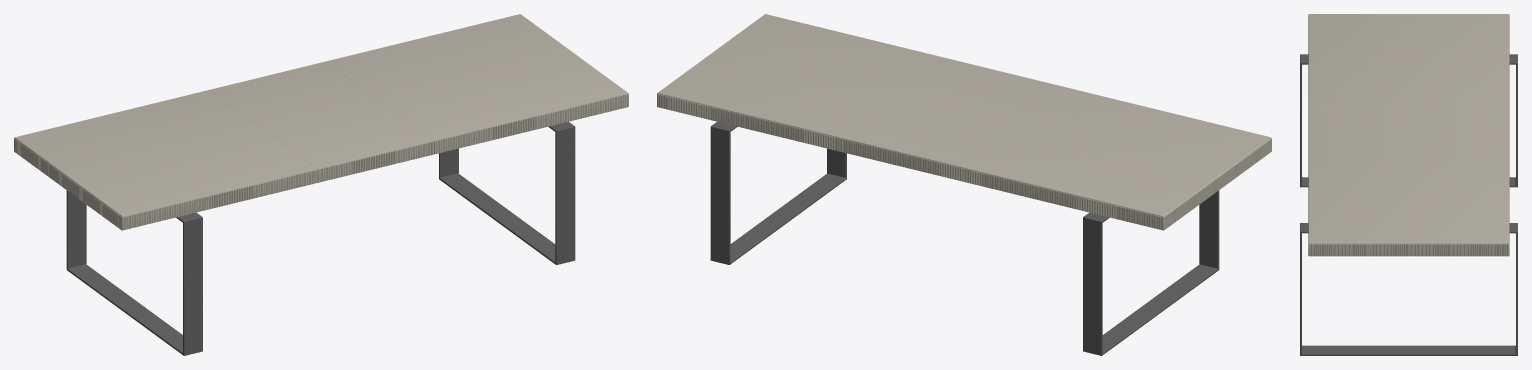
File: table.glb
The picture shows the model from 3 angles, left to right: view 1: azimuth 30°, elevation 25°; view 2: azimuth 150°, elevation 25°; view 3: azimuth 270°, elevation 25°; orthographic projection. The views are drawn at different scales.
Visible parts, largest first — view 1: GorhamExtendableDiningTable; view 2: GorhamExtendableDiningTable; view 3: GorhamExtendableDiningTable.
Part boxes in pixels (box(x1,y1,x2,y2)): GorhamExtendableDiningTable: box(14, 14, 628, 355); GorhamExtendableDiningTable: box(657, 14, 1271, 355); GorhamExtendableDiningTable: box(1300, 14, 1517, 355).
Bounding box in the file's own units: 2.69 × 0.762 × 1.08.
Materials: 1 (1 with a texture image).
